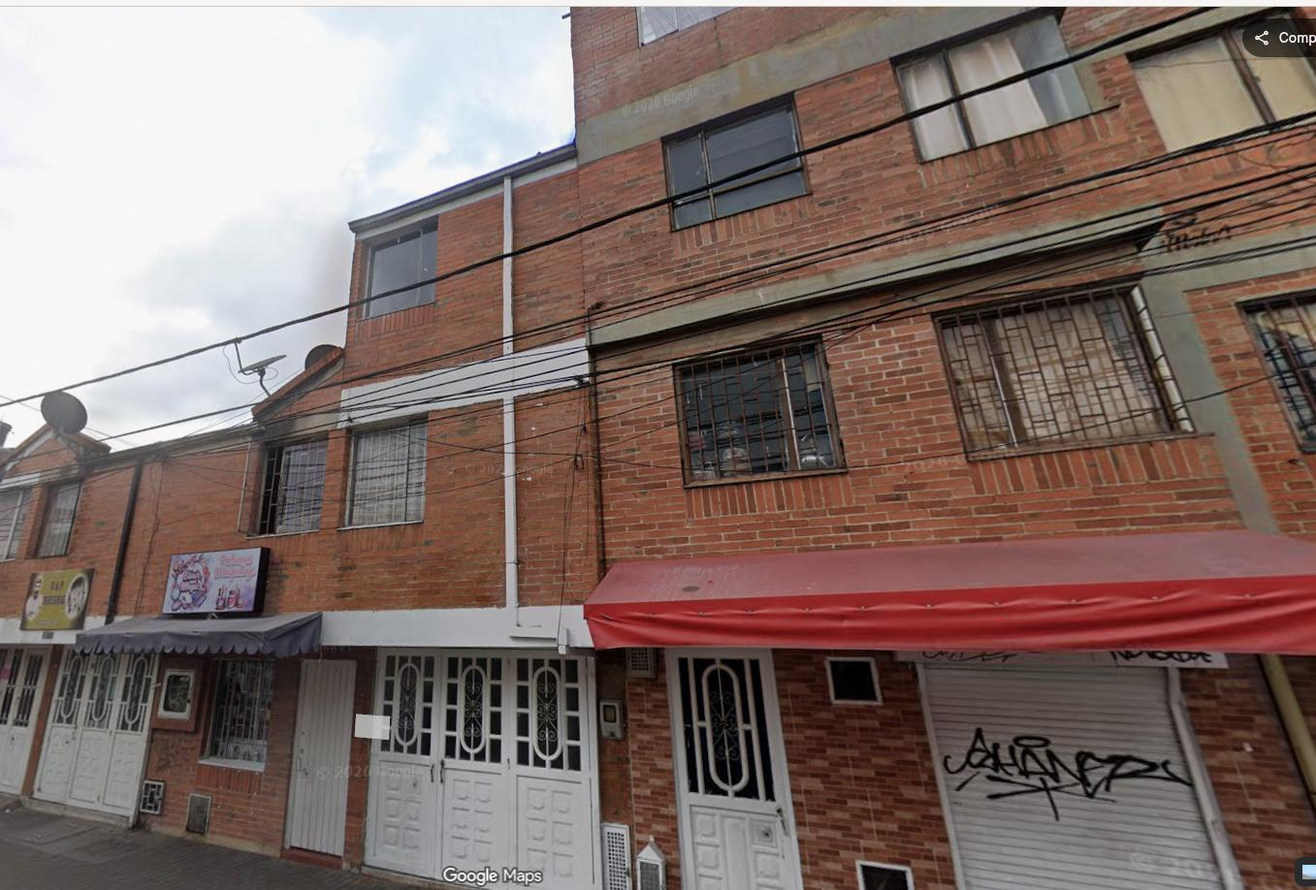casa: (572, 8, 1315, 889), (0, 144, 641, 889), (1102, 21, 1315, 538)
